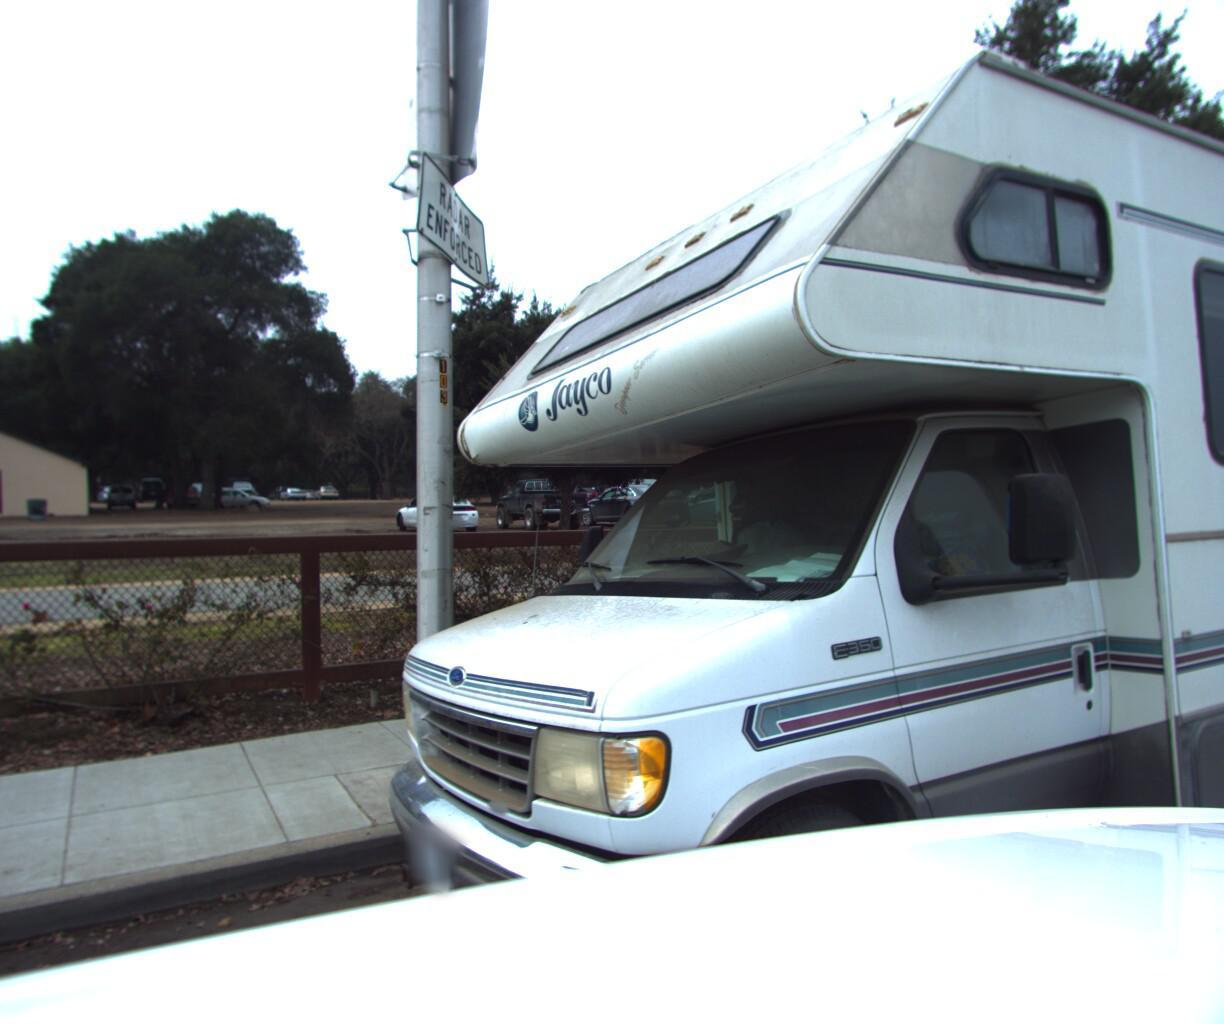other_vehicle: (293, 0, 1224, 1024)
